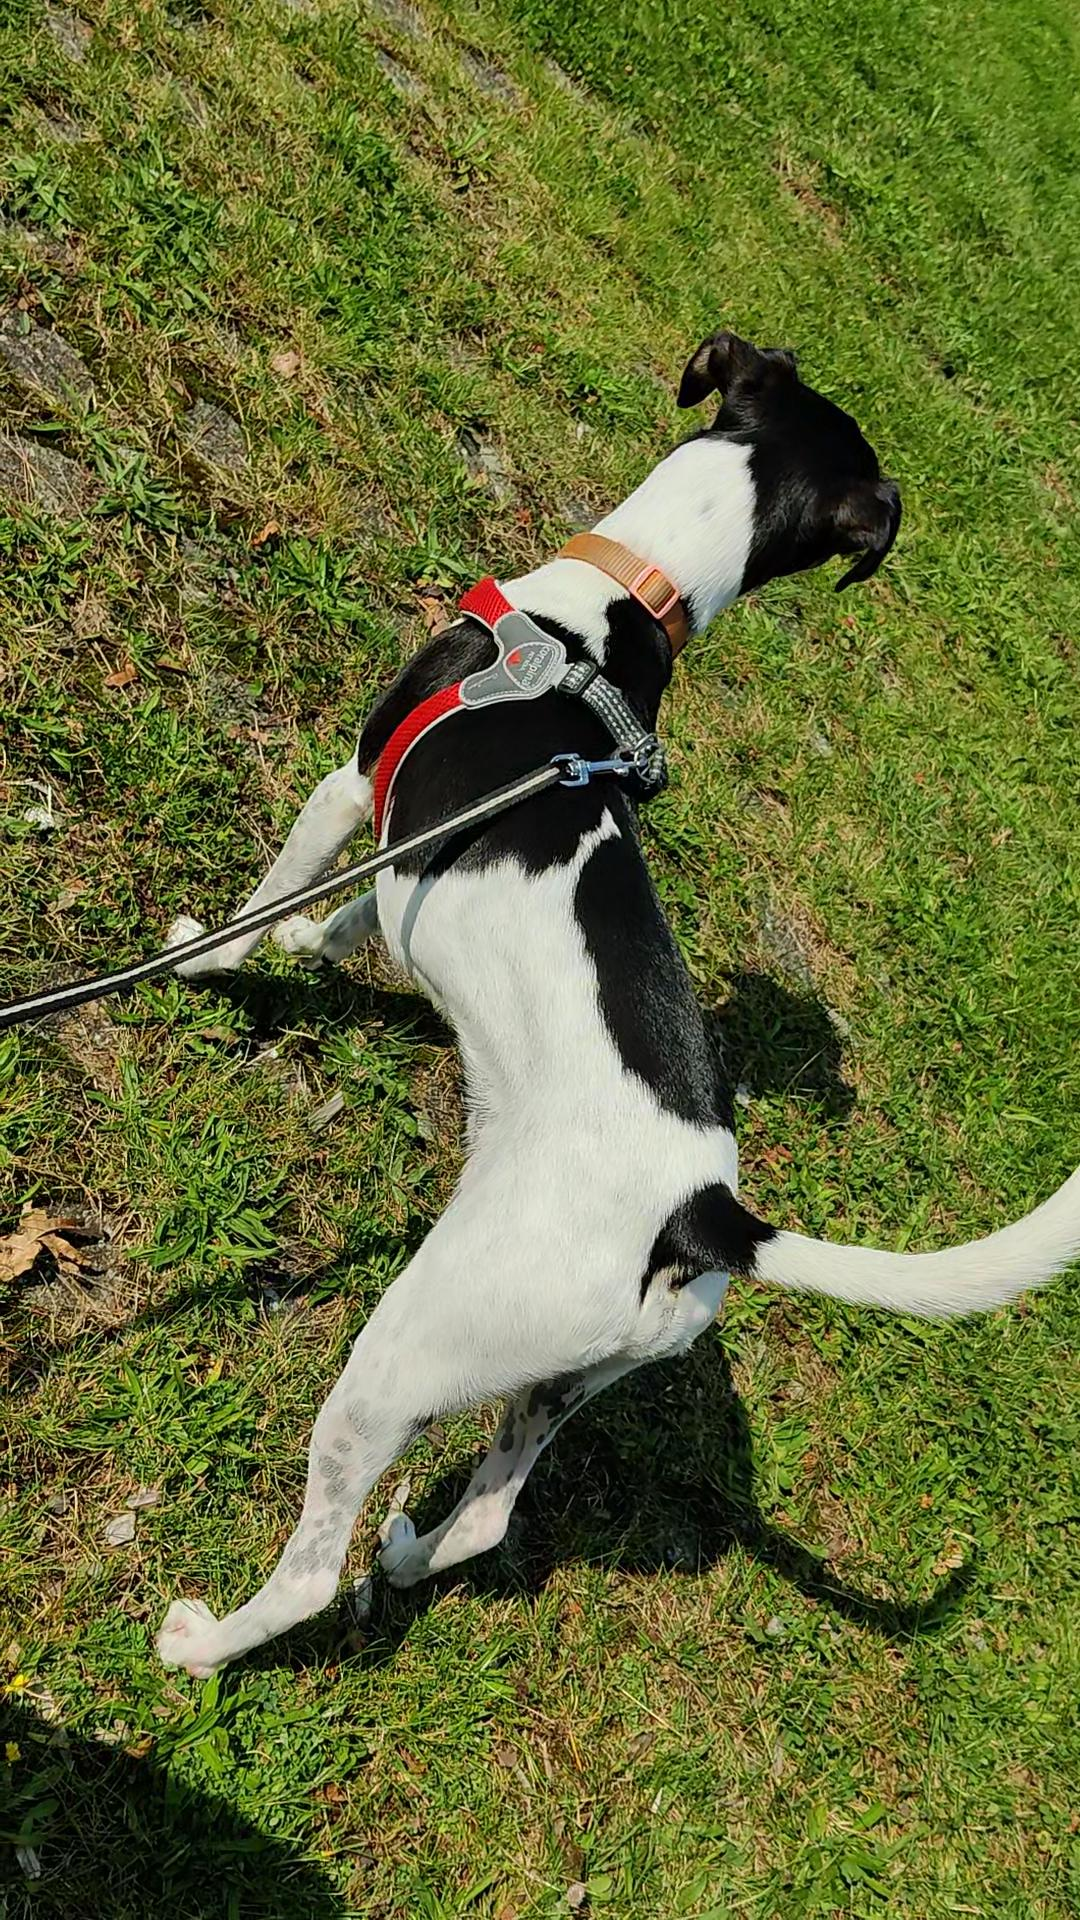Dog: (131, 320, 1079, 1691)
